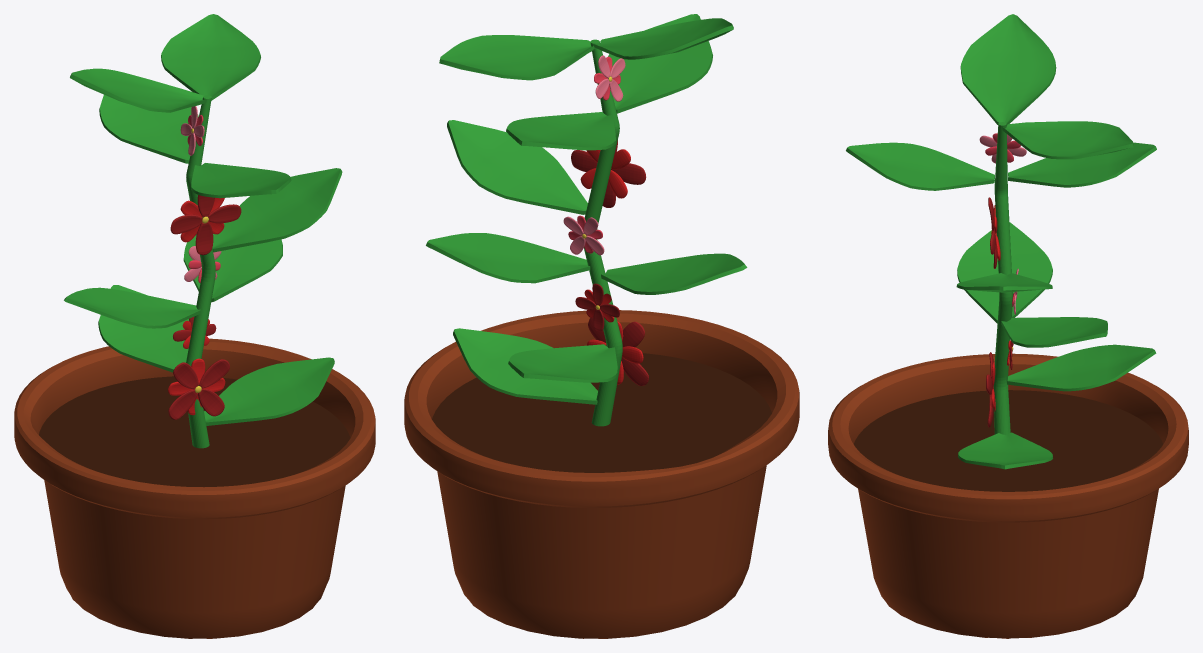
Rendered from plant1.fbx.
3 renders of one model, left to right at view 1: azimuth 30°, elevation 25°; view 2: azimuth 150°, elevation 25°; view 3: azimuth 270°, elevation 25°, orthographic. The views are drawn at different scales.
Parts seen in each view (by area): view 1: Circle, Circle.008, Circle.006, Circle.003, Circle.009, Circle.010, Circle.002, Circle.005, Circle.001, Circle.007, Circle.022, Circle.004 (+5 smaller); view 2: Circle, Circle.008, Circle.003, Circle.006, Circle.022, Circle.009, Circle.004, Circle.007, Circle.002, Circle.001, Circle.010, Circle.005 (+5 smaller); view 3: Circle, Circle.008, Circle.005, Circle.004, Circle.001, Circle.002, Circle.006, Circle.007, Circle.010, Circle.022, Circle.009, Circle.003 (+1 smaller).
Part boxes in pixels (left/top/right/bottom): Circle: left=14, top=338, right=375, bottom=638; Circle.008: left=39, top=376, right=350, bottom=487; Circle.006: left=161, top=14, right=260, bottom=100; Circle.003: left=212, top=168, right=342, bottom=252; Circle.009: left=204, top=357, right=334, bottom=425; Circle.010: left=99, top=94, right=198, bottom=163; Circle.002: left=64, top=287, right=201, bottom=328; Circle.005: left=70, top=68, right=206, bottom=112; Circle.001: left=98, top=285, right=188, bottom=372; Circle.007: left=186, top=95, right=215, bottom=448; Circle.022: left=183, top=223, right=282, bottom=302; Circle.004: left=191, top=163, right=291, bottom=198; Circle: left=404, top=310, right=799, bottom=638; Circle.008: left=432, top=353, right=771, bottom=472; Circle.003: left=447, top=120, right=587, bottom=214; Circle.006: left=439, top=35, right=594, bottom=80; Circle.022: left=426, top=233, right=590, bottom=283; Circle.009: left=453, top=328, right=597, bottom=404; Circle.004: left=608, top=14, right=712, bottom=113; Circle.007: left=584, top=39, right=622, bottom=426; Circle.002: left=601, top=253, right=747, bottom=294; Circle.001: left=508, top=344, right=617, bottom=382; Circle.010: left=506, top=112, right=615, bottom=150; Circle.005: left=593, top=18, right=733, bottom=59; Circle: left=828, top=353, right=1188, bottom=638; Circle.008: left=853, top=390, right=1163, bottom=491; Circle.005: left=960, top=14, right=1056, bottom=125; Circle.004: left=846, top=142, right=994, bottom=190; Circle.001: left=1007, top=344, right=1156, bottom=391; Circle.002: left=957, top=222, right=1052, bottom=323; Circle.006: left=1002, top=121, right=1133, bottom=159; Circle.007: left=993, top=122, right=1012, bottom=435; Circle.010: left=1008, top=142, right=1156, bottom=187; Circle.022: left=1001, top=317, right=1107, bottom=347; Circle.009: left=958, top=432, right=1052, bottom=469; Circle.003: left=956, top=273, right=1052, bottom=292.
Bounding box in the file's own units: 130 × 222 × 137.
